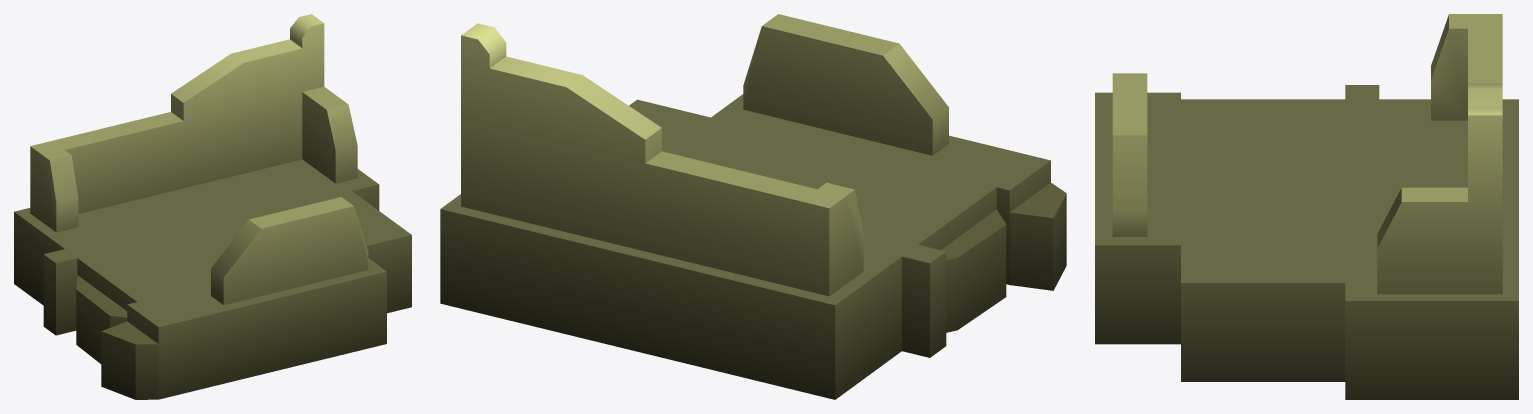
3 views of the same model, side by side, from view 1: azimuth 30°, elevation 25°; view 2: azimuth 150°, elevation 25°; view 3: azimuth 270°, elevation 25° (orthographic). The views are drawn at different scales.
Parts seen in each view (by area): view 1: Cube.090; view 2: Cube.090; view 3: Cube.090.
Part boxes in pixels (left/top/right/bottom): Cube.090: left=14, top=14, right=411, bottom=399; Cube.090: left=440, top=14, right=1066, bottom=399; Cube.090: left=1095, top=14, right=1518, bottom=399.
Size of the model in its own units: 15.62 by 8.88 by 12.25.
